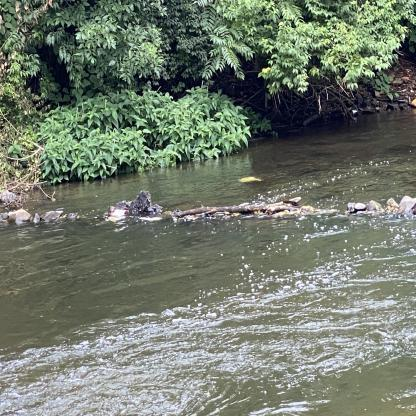trash: (236, 174, 262, 184), (109, 208, 130, 218)
